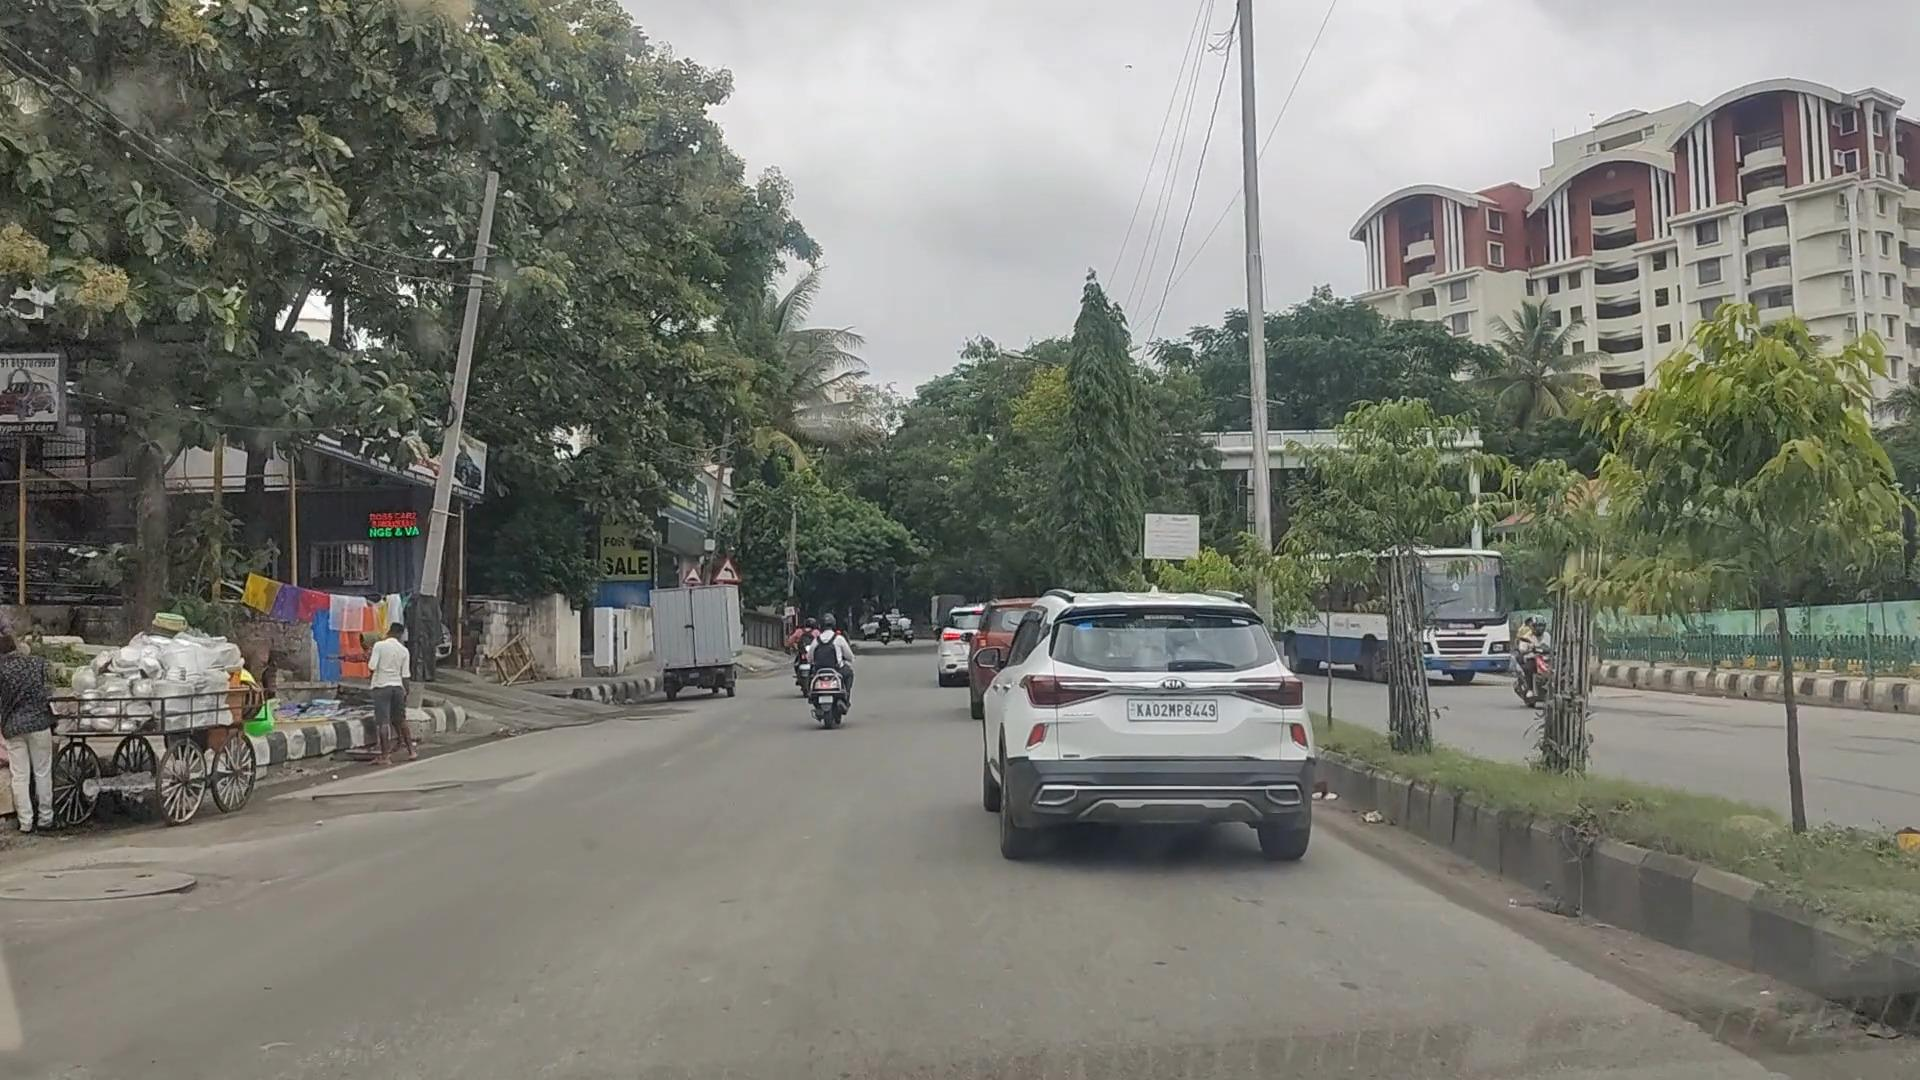LMV: (986, 589, 1320, 864)
RoadDamages: (26, 829, 286, 923), (248, 757, 520, 844)
